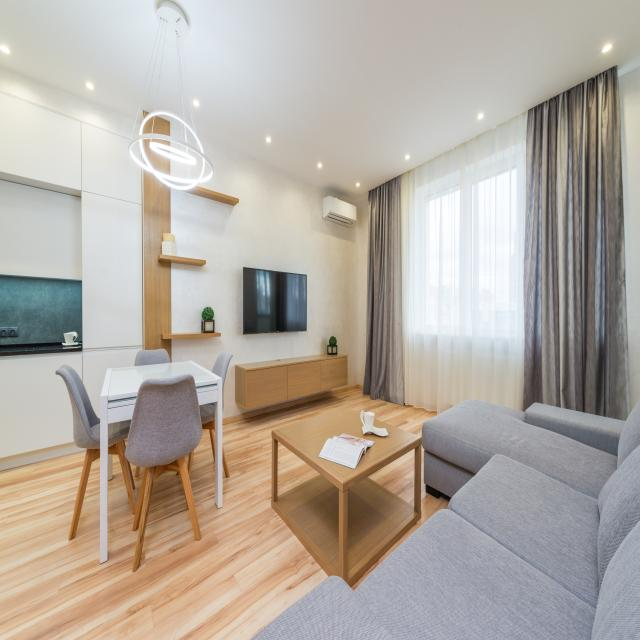floor: (0, 388, 437, 640), (351, 445, 451, 592), (368, 448, 415, 506), (278, 442, 319, 497)
wall: (171, 134, 359, 419), (0, 92, 142, 205), (0, 348, 143, 458), (0, 66, 136, 139), (82, 191, 143, 352), (235, 336, 348, 410), (0, 180, 82, 280), (618, 66, 640, 412), (243, 267, 307, 335), (358, 201, 368, 389), (188, 148, 203, 179), (170, 158, 188, 179), (130, 140, 142, 163), (186, 130, 198, 150), (170, 122, 182, 140), (131, 121, 142, 139), (202, 159, 212, 178), (170, 141, 183, 152), (170, 151, 183, 158), (182, 128, 186, 142), (197, 142, 201, 152), (183, 146, 187, 153), (183, 156, 187, 159), (187, 158, 191, 160), (187, 147, 188, 154)
